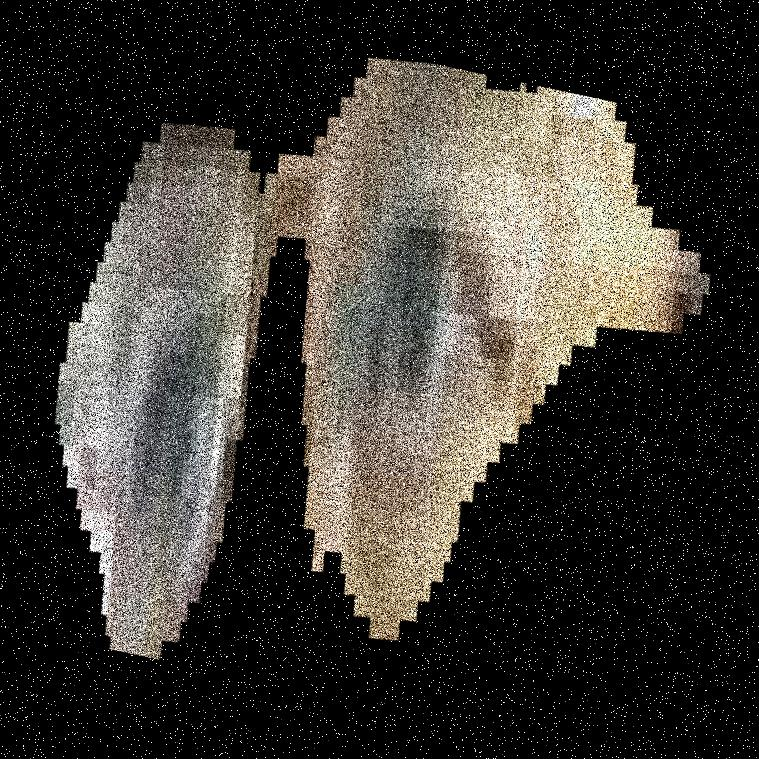Oculos: (397, 0, 529, 758)
